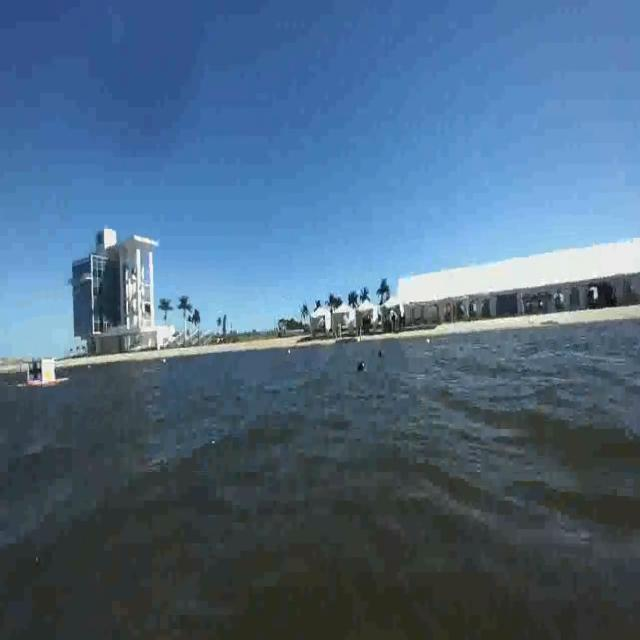black-buoy: (357, 360, 368, 374)
